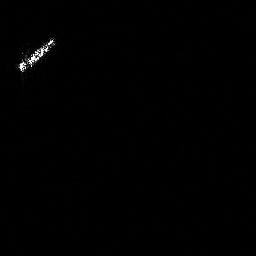ship: (17, 38, 55, 71)
